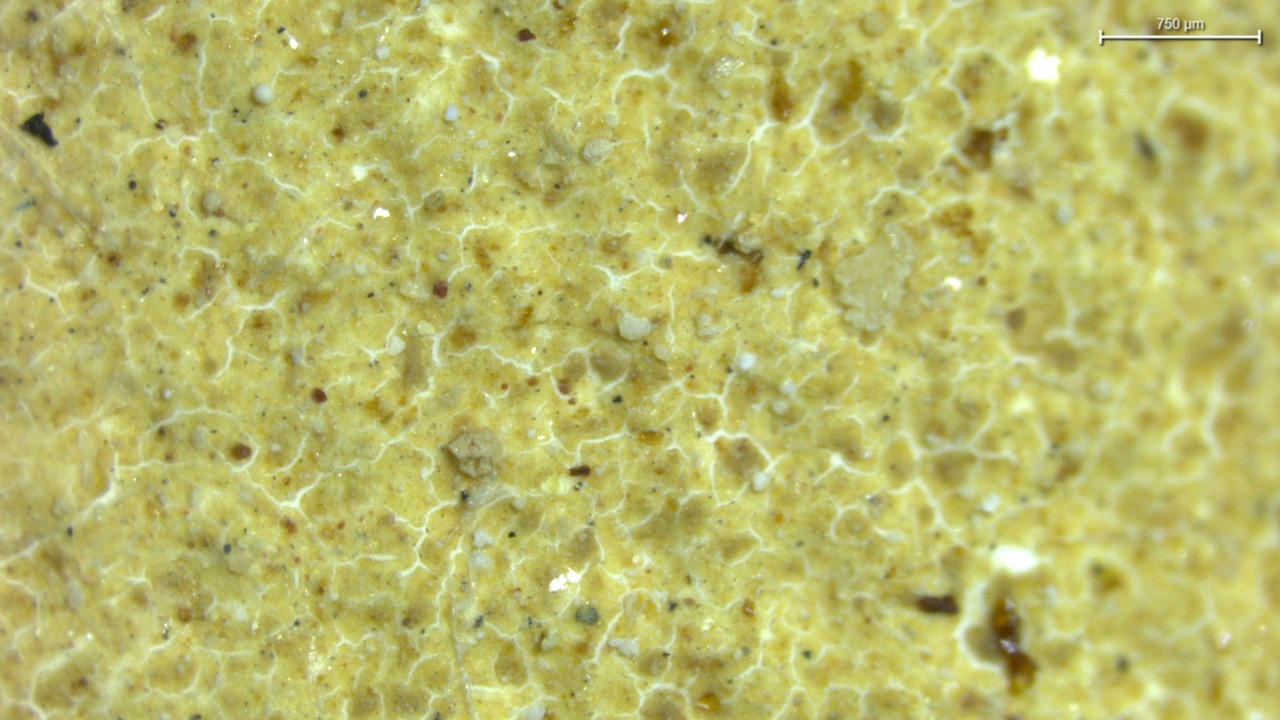microplastic_fragment: (834, 240, 913, 329), (447, 428, 502, 477), (618, 314, 653, 341)
